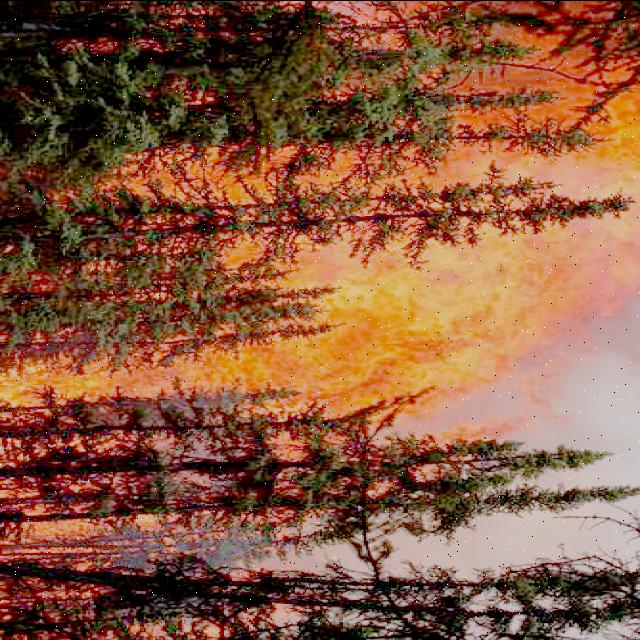api: (256, 228, 640, 439), (424, 86, 640, 212), (105, 145, 371, 209), (1, 348, 265, 412), (1, 521, 116, 558)
